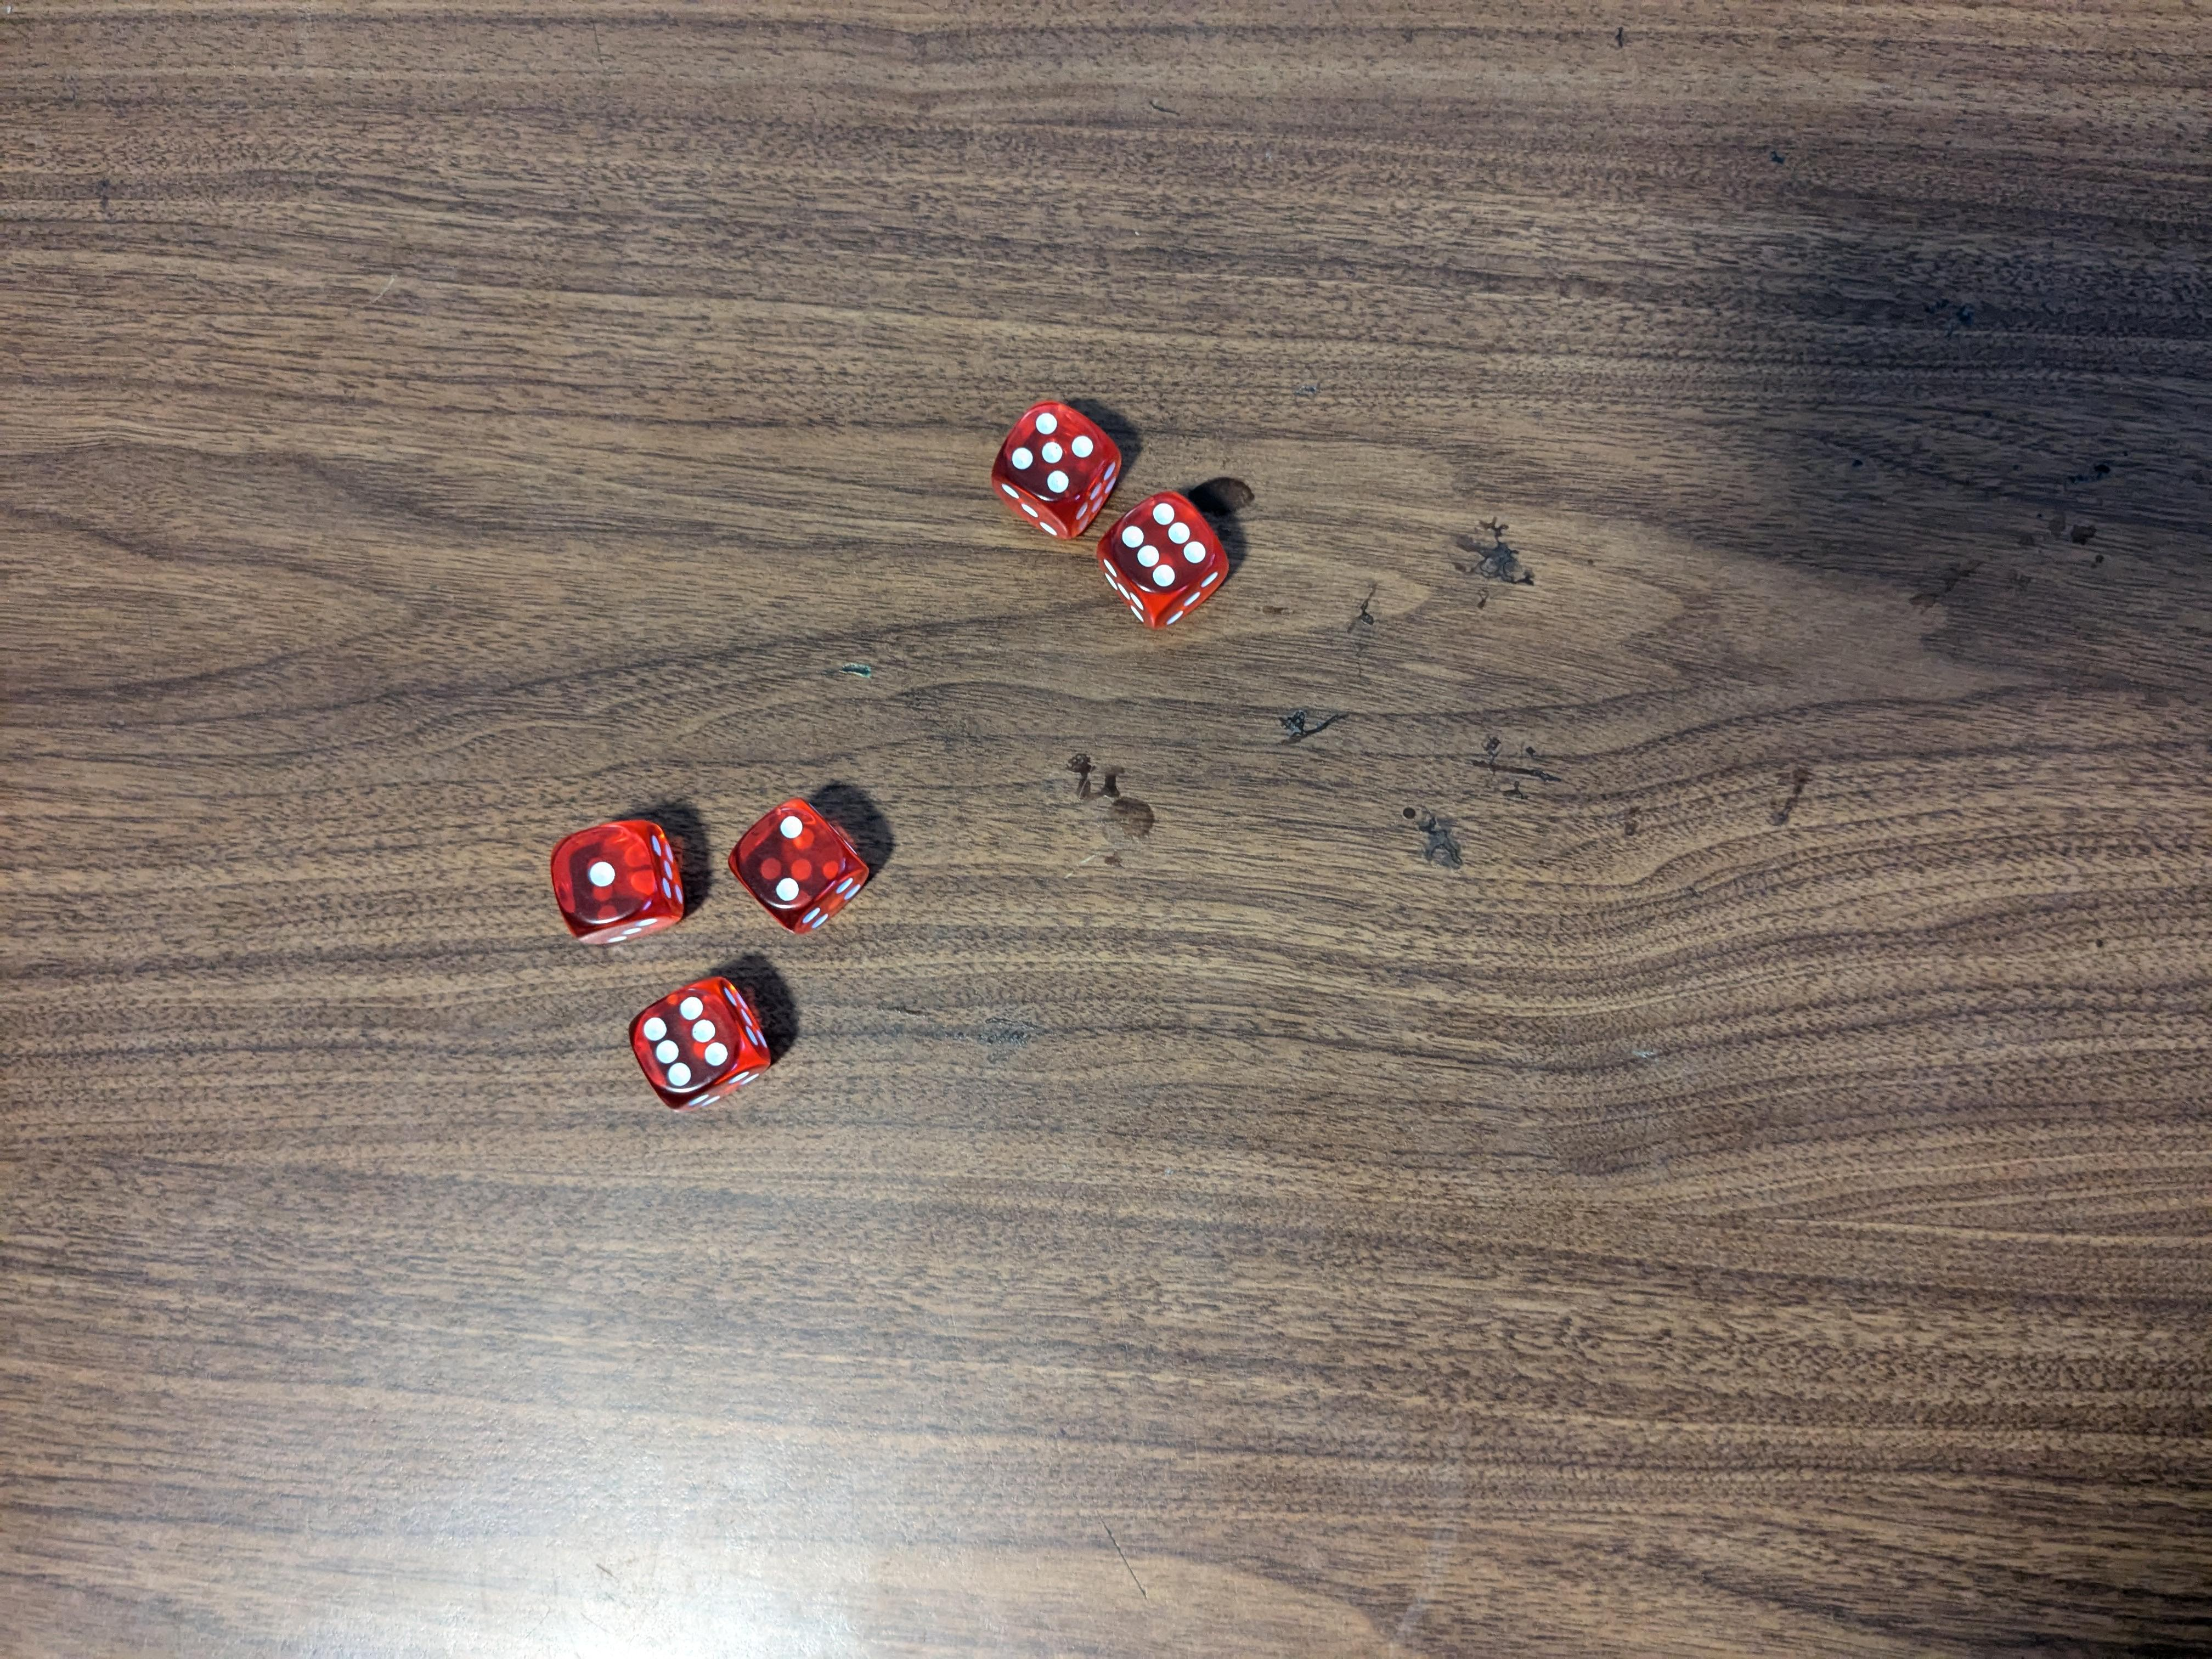five: (984, 399, 1129, 540)
one: (543, 817, 690, 951)
six: (1097, 483, 1242, 634), (618, 976, 773, 1108)
two: (730, 798, 878, 934)
